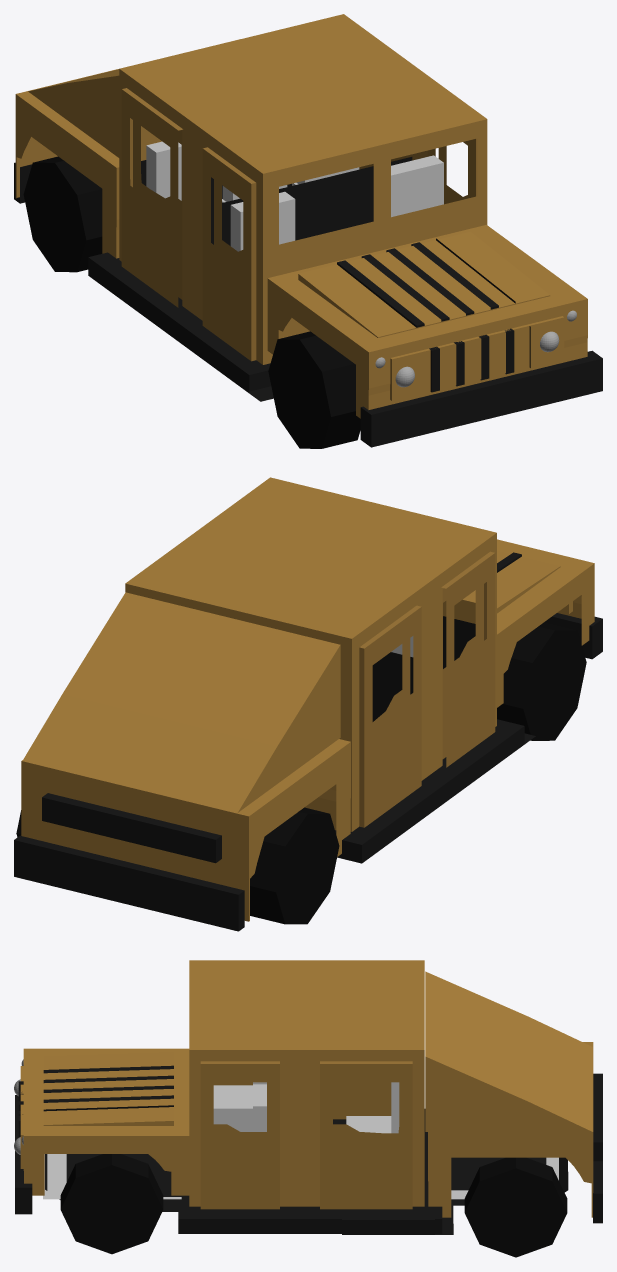
The model's file is humvee.obj.
3 views of the same model, one above another, from view 1: azimuth 30°, elevation 25°; view 2: azimuth 150°, elevation 25°; view 3: azimuth 270°, elevation 25° (orthographic). The views are drawn at different scales.
Parts seen in each view (by area): view 1: Cube.012_Cube.015, Cube.016, Cube.001_Cube.003, Cube.021_Cube.022, Cube.019_Cube.020, Cylinder.002, Cylinder.001_Cylinder.003, Cube.002_Cube.004, Cube.017_Cube.018, Plane.001_Plane.002, Cube.013_Cube, Cube.015_Cube.002 (+6 smaller); view 2: Cube.015_Cube.002, Cube.012_Cube.015, Cube.016, Cube.002_Cube.004, Cube.023_Cube.024, Cylinder.001_Cylinder.003, Cylinder.002, Cube.001_Cube.003, Cube.013_Cube, Cube.022_Cube.023, Plane.001_Plane.002, Cube.021_Cube.022 (+2 smaller); view 3: Cube.012_Cube.015, Cube.016, Cube.015_Cube.002, Cube.001_Cube.003, Cube.014_Cube.001, Cylinder.003_Cylinder.004, Cylinder, Cube.021_Cube.022, Cube.002_Cube.004, Cube.013_Cube, Cube.020_Cube.021, Cube.010_Cube.013 (+7 smaller).
Boxes of the visible parts, x1,y1,x2,y2 form: Cube.012_Cube.015: (119, 14, 487, 364); Cube.016: (121, 88, 477, 361); Cube.001_Cube.003: (267, 225, 587, 418); Cube.021_Cube.022: (298, 232, 550, 337); Cube.019_Cube.020: (360, 350, 602, 447); Cylinder.002: (268, 331, 360, 448); Cylinder.001_Cylinder.003: (23, 156, 102, 272); Cube.002_Cube.004: (15, 45, 213, 258); Cube.017_Cube.018: (390, 316, 564, 400); Plane.001_Plane.002: (141, 157, 412, 245); Cube.013_Cube: (88, 252, 271, 391); Cube.015_Cube.002: (28, 69, 152, 157); Cube.015_Cube.002: (22, 592, 340, 812); Cube.012_Cube.015: (125, 477, 496, 831); Cube.016: (359, 551, 495, 827); Cube.002_Cube.004: (21, 739, 350, 921); Cube.023_Cube.024: (14, 835, 244, 931); Cylinder.001_Cylinder.003: (250, 807, 339, 924); Cylinder.002: (497, 622, 586, 740); Cube.001_Cube.003: (497, 539, 594, 707); Cube.013_Cube: (335, 721, 521, 863); Cube.022_Cube.023: (42, 793, 221, 863); Plane.001_Plane.002: (372, 616, 475, 721); Cube.021_Cube.022: (463, 550, 560, 613); Cube.012_Cube.015: (189, 960, 424, 1206); Cube.016: (200, 1061, 412, 1209); Cube.015_Cube.002: (425, 971, 592, 1131); Cube.001_Cube.003: (23, 1048, 189, 1195); Cube.014_Cube.001: (45, 1110, 568, 1234); Cylinder.003_Cylinder.004: (464, 1157, 567, 1257); Cylinder: (60, 1154, 163, 1254); Cube.021_Cube.022: (43, 1052, 173, 1125); Cube.002_Cube.004: (428, 1042, 593, 1217); Cube.013_Cube: (181, 1109, 442, 1233); Cube.020_Cube.021: (43, 1065, 173, 1111); Cube.010_Cube.013: (213, 1085, 252, 1131).
Bounding box in the file's own units: 1.2 × 1 × 2.69.
